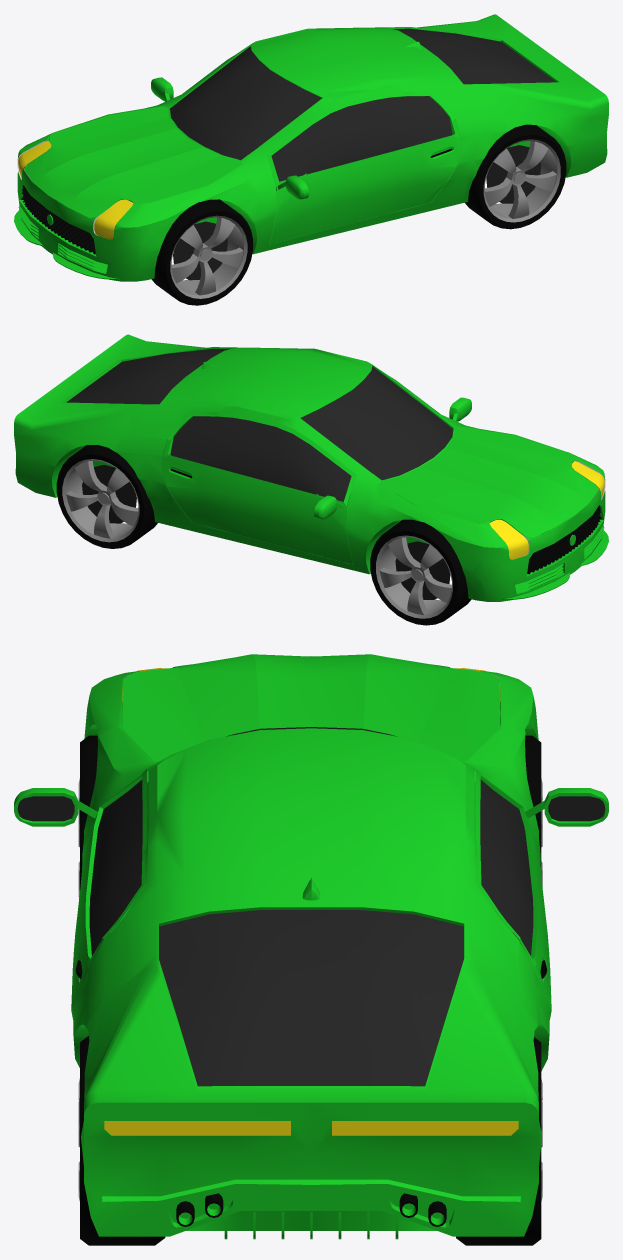
File: deportivo.glb
3 renders of one model, top to bottom at view 1: azimuth 30°, elevation 25°; view 2: azimuth 150°, elevation 25°; view 3: azimuth 270°, elevation 25°, orthographic. The views are drawn at different scales.
Parts seen in each view (by area): view 1: Cube, Cylinder, Cylinder.001; view 2: Cube, Cylinder.002, Cylinder.003; view 3: Cube, Cylinder.001, Cylinder.003, Cylinder, Cylinder.002.
Part boxes in pixels (bbox=[...]): Cube: bbox=[14, 14, 608, 281]; Cylinder: bbox=[151, 199, 252, 305]; Cylinder.001: bbox=[465, 124, 566, 229]; Cube: bbox=[14, 334, 608, 601]; Cylinder.002: bbox=[370, 519, 471, 625]; Cylinder.003: bbox=[56, 445, 157, 548]; Cube: bbox=[14, 654, 608, 1239]; Cylinder.001: bbox=[78, 1036, 165, 1245]; Cylinder.003: bbox=[456, 1037, 542, 1245]; Cylinder: bbox=[78, 735, 97, 898]; Cylinder.002: bbox=[525, 735, 542, 886].
Bounding box in the file's own units: 0.9206 × 0.2814 × 0.4701.
